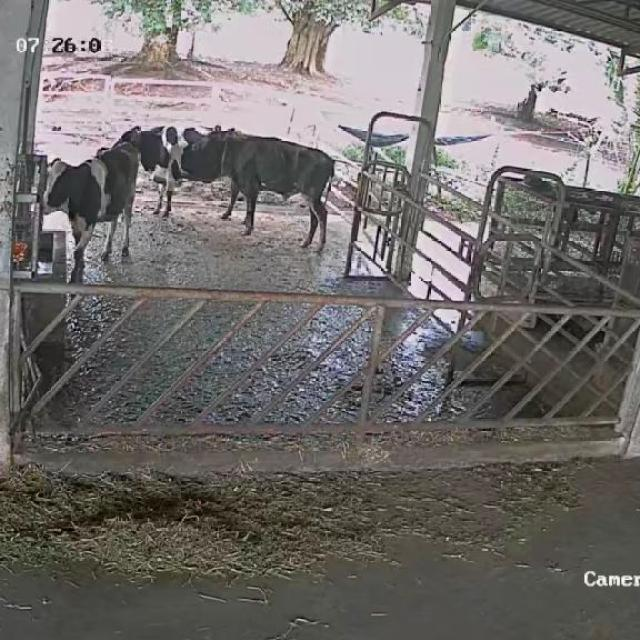standing: (184, 121, 330, 257), (32, 140, 140, 288), (109, 121, 235, 220)
